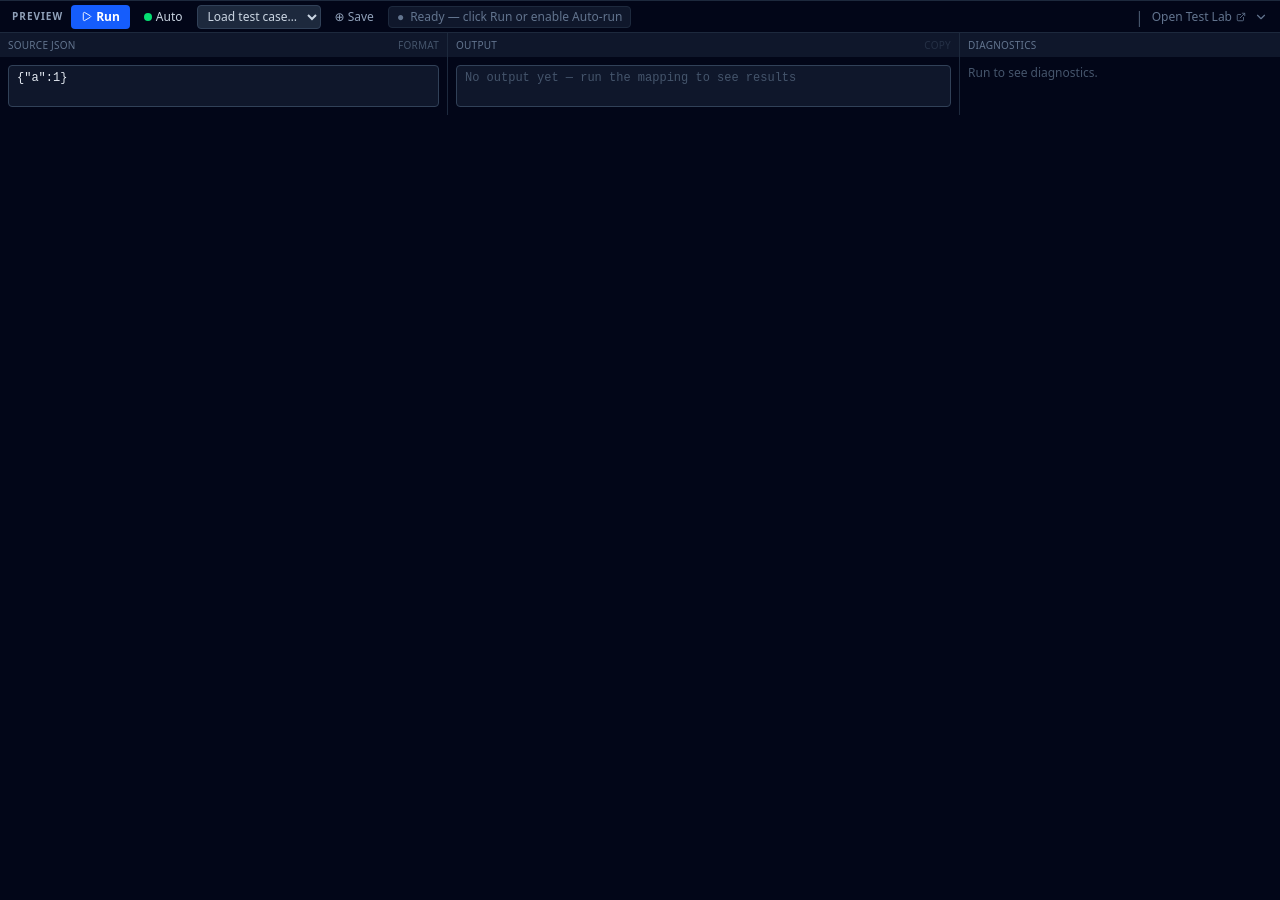
Test: InlinePreviewStrip › modal name input is pre-filled with "Test case 3" when 2 existing test cases
Click the button with test id "strip-save-testcase-button": {"x": 354, "y": 16} [328,6,380,26]
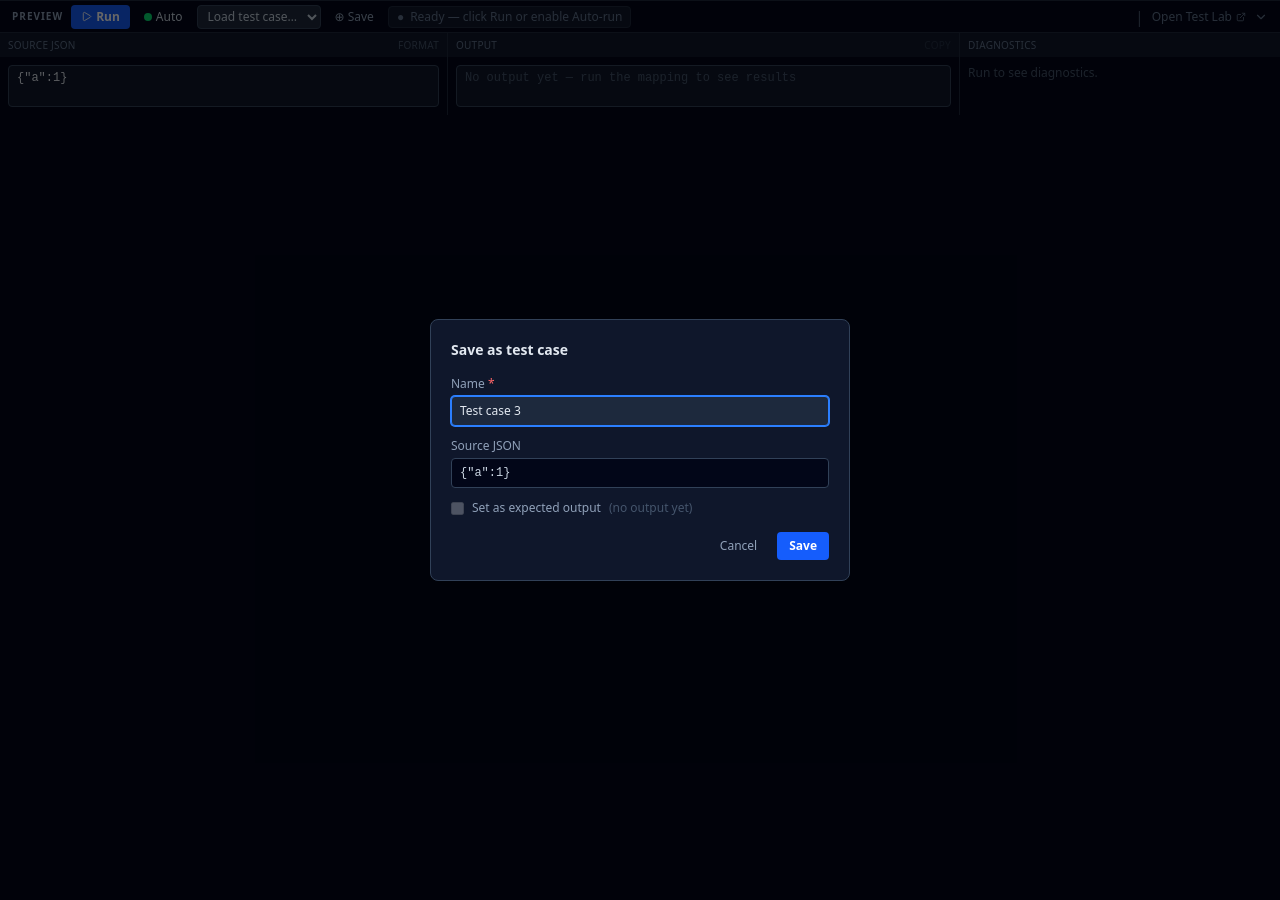
Expected: the field with test id "save-testcase-name-input" holds "Test case 3", [451,396,829,426]
